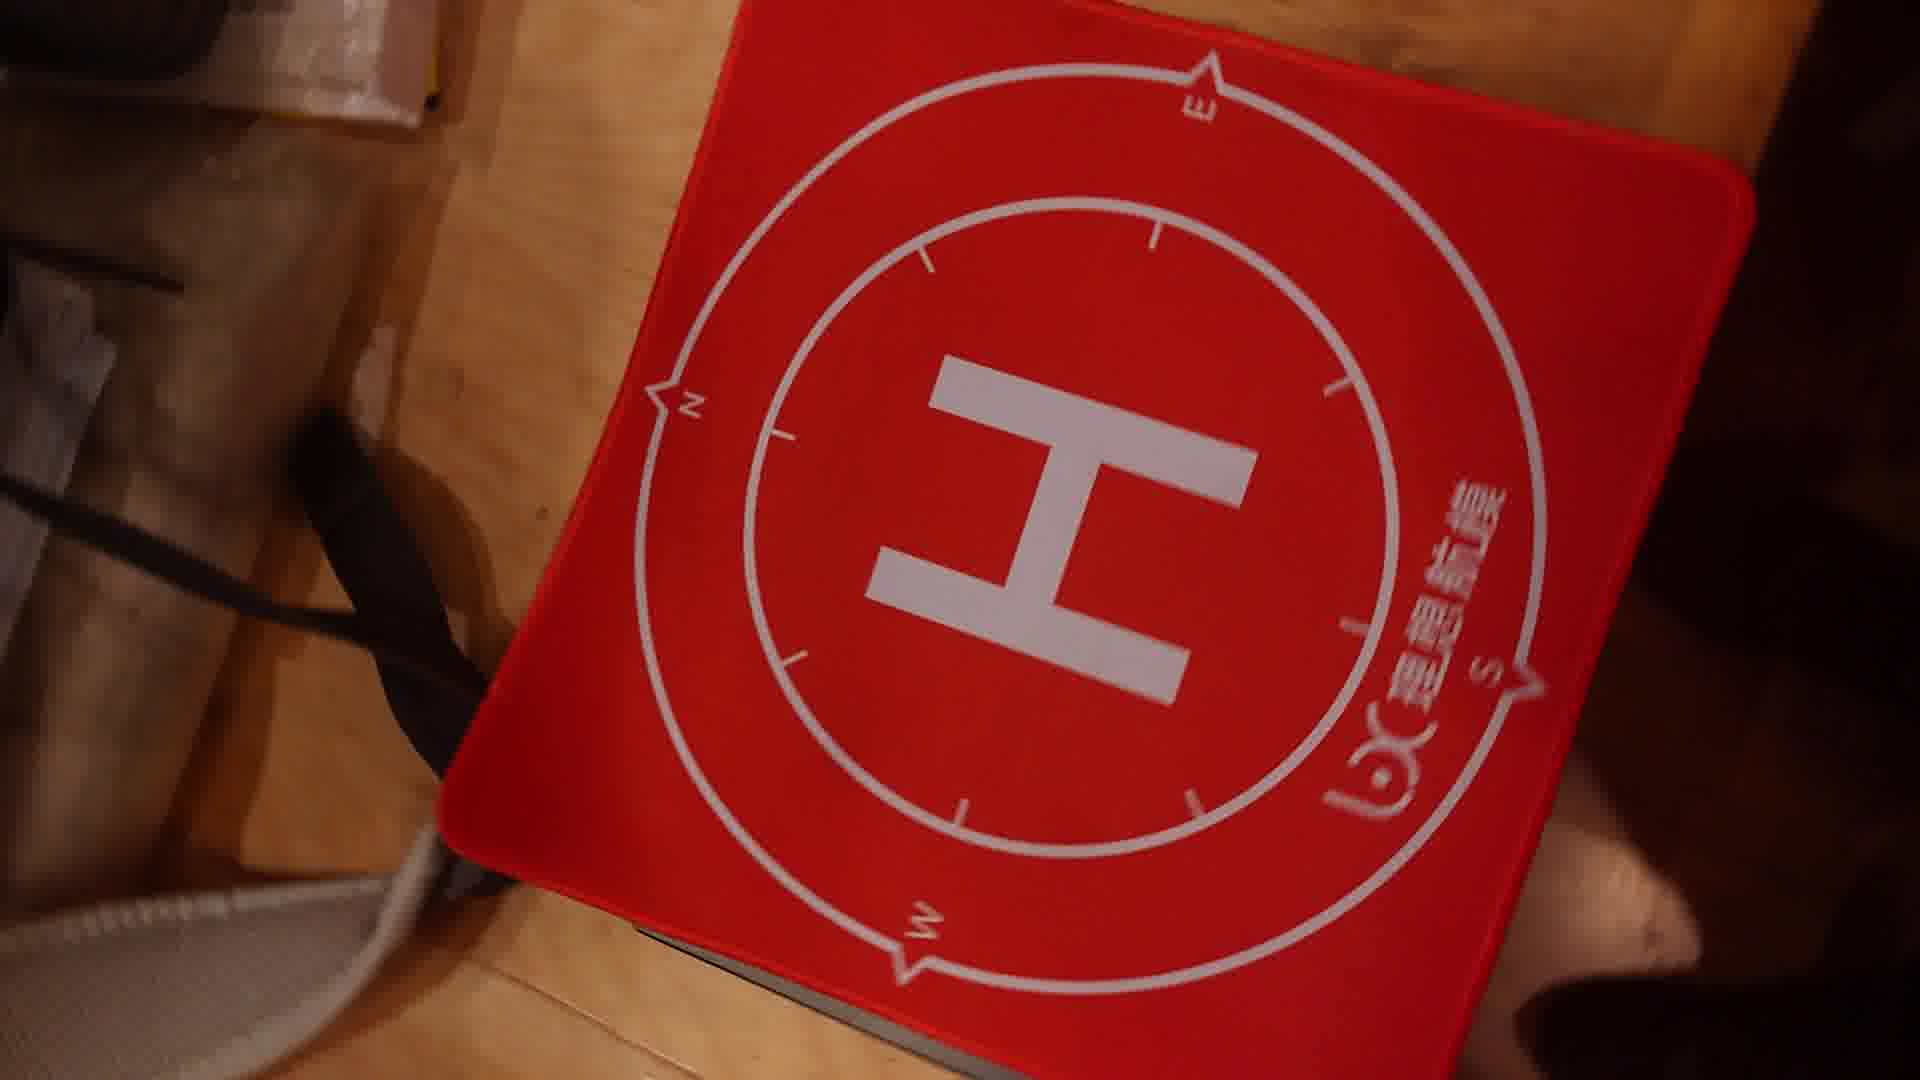H: (862, 353, 1263, 708)
